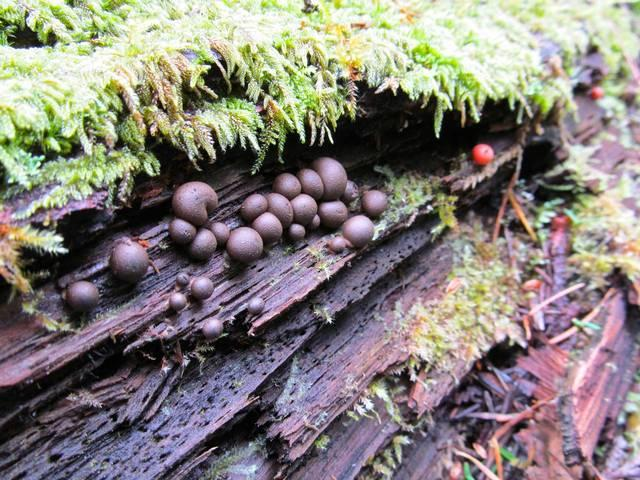Non-edible Mushroom: (58, 154, 389, 316), (171, 180, 218, 225), (108, 237, 149, 282), (225, 225, 263, 263), (62, 279, 99, 313), (341, 214, 374, 247), (187, 227, 217, 260), (360, 188, 387, 216), (188, 275, 214, 300), (471, 142, 494, 165), (200, 318, 224, 340)
